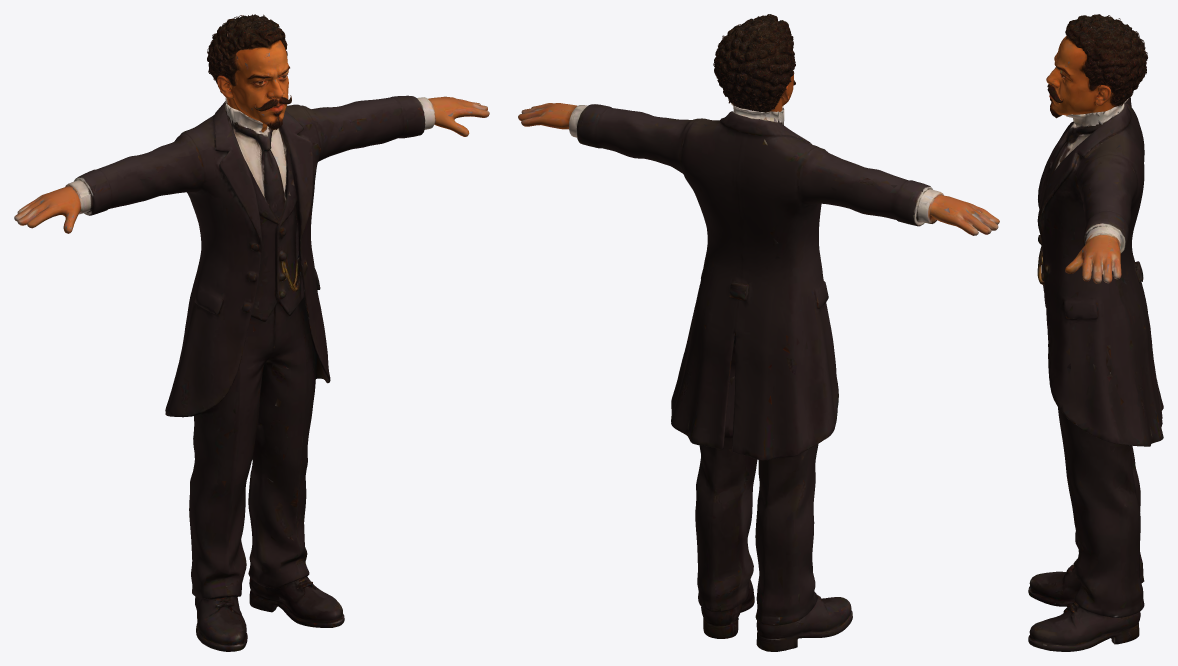
The model's file is nilo.glb.
The picture shows the model from 3 angles, left to right: view 1: azimuth 30°, elevation 25°; view 2: azimuth 150°, elevation 25°; view 3: azimuth 270°, elevation 25°; orthographic projection.
Visible parts, largest first — view 1: Corpo Nilo, Cabeça Nilo; view 2: Corpo Nilo, Cabeça Nilo; view 3: Corpo Nilo, Cabeça Nilo.
Boxes of the visible parts, bbox=[...] form: Corpo Nilo: bbox=[14, 95, 489, 651]; Cabeça Nilo: bbox=[207, 14, 291, 132]; Corpo Nilo: bbox=[518, 103, 999, 651]; Cabeça Nilo: bbox=[713, 14, 795, 112]; Corpo Nilo: bbox=[1028, 96, 1163, 651]; Cabeça Nilo: bbox=[1046, 14, 1147, 118].
Bounding box in the file's own units: 1.86 × 2.28 × 0.4631.
2 materials, 2 textured.
